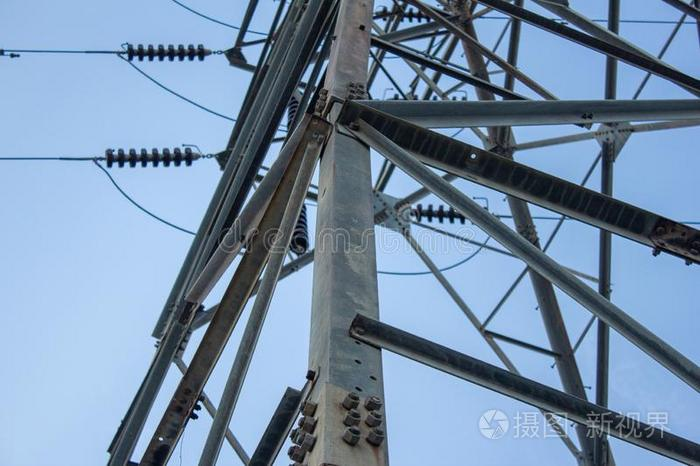insulator: (103, 143, 195, 170), (124, 42, 208, 64), (413, 200, 465, 229)
